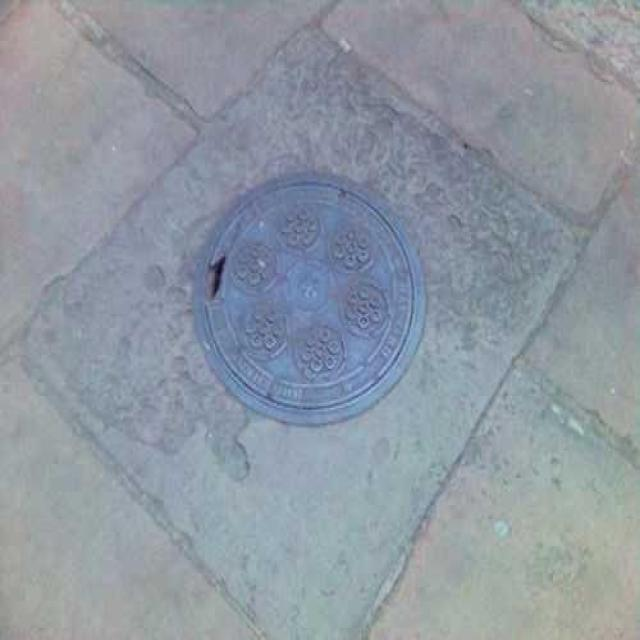manhole: (188, 174, 429, 430)
